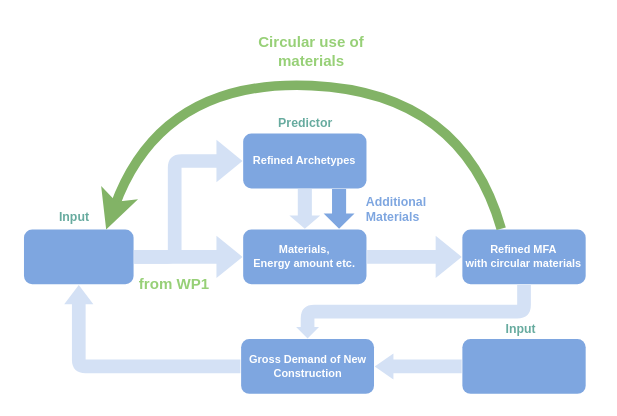
The diagram is 617 pixels wide and 416 high, and some of its shapes have lost their labels. The centre of each missing label's shape, as x and y in pixels:
"Existing Building Stock" belongs at point (78, 256).
"Raw/New Materials" belongs at point (523, 365).
